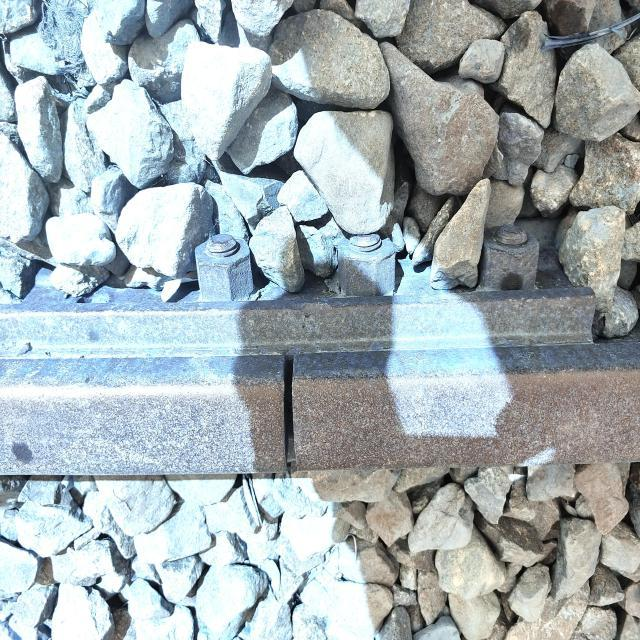Defective Joint: (0, 241, 640, 483)
